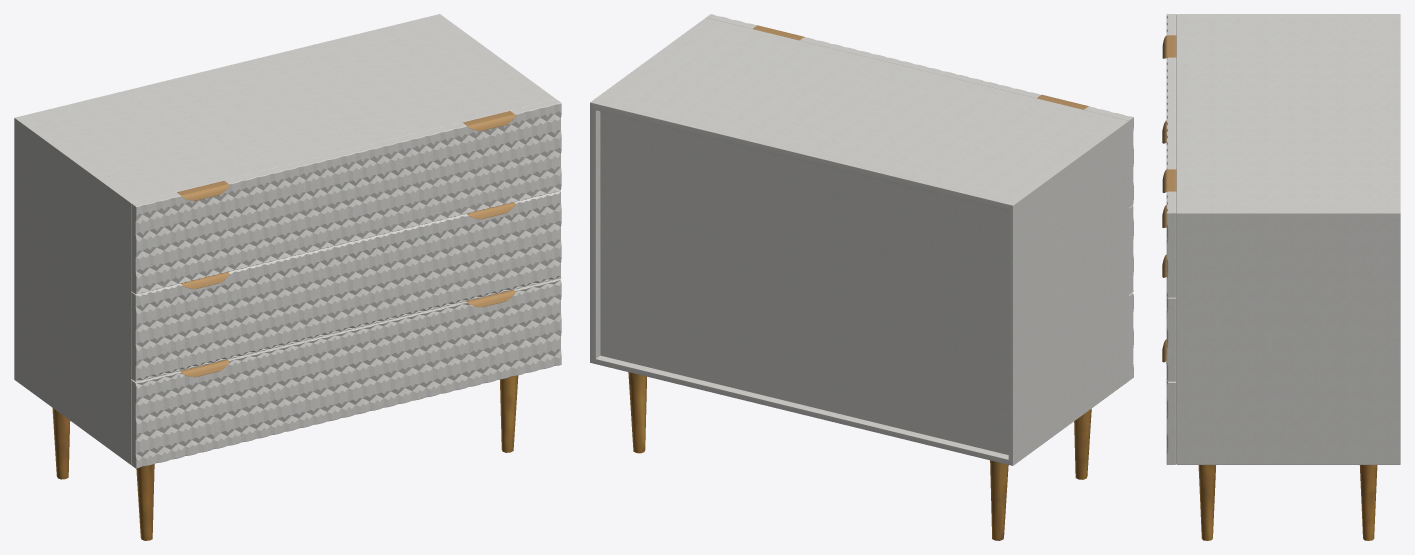
The model's file is cabinet_B07HSL4TS1.glb.
The picture shows the model from 3 angles, left to right: view 1: azimuth 30°, elevation 25°; view 2: azimuth 150°, elevation 25°; view 3: azimuth 270°, elevation 25°; orthographic projection. The views are drawn at different scales.
Parts seen in each view (by area): view 1: RootNode; view 2: RootNode; view 3: RootNode.
Part boxes in pixels (<box>): RootNode: <box>14,14,561,540</box>; RootNode: <box>590,14,1133,540</box>; RootNode: <box>1162,14,1400,540</box>.
Bounding box in the file's own units: 0.9048 × 0.7214 × 0.4567.
1 material, 1 textured.
